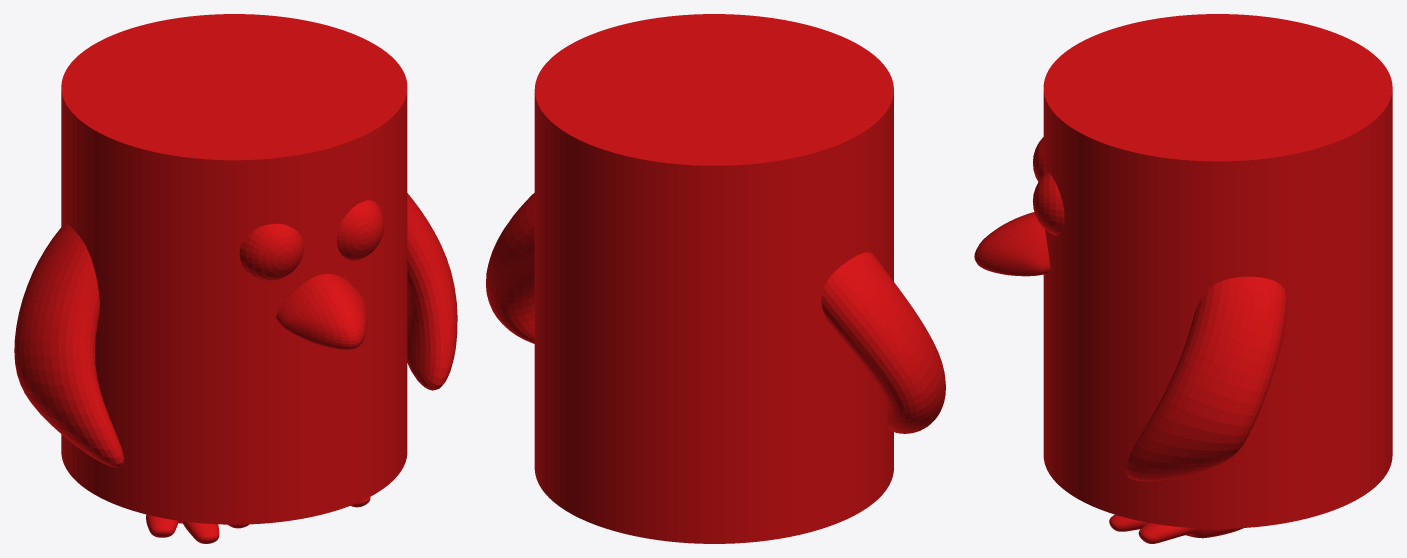
Rendered from cylinder_peng_red.glb.
3 views of the same model, side by side, from view 1: azimuth 30°, elevation 25°; view 2: azimuth 150°, elevation 25°; view 3: azimuth 270°, elevation 25° (orthographic). The views are drawn at different scales.
Parts seen in each view (by area): view 1: Cylinder.002; view 2: Cylinder.002; view 3: Cylinder.002.
Part boxes in pixels (<box>): Cylinder.002: <box>14,14,457,543</box>; Cylinder.002: <box>486,14,945,543</box>; Cylinder.002: <box>974,14,1392,543</box>.
Bounding box in the file's own units: 2.8 × 2.59 × 2.4.
